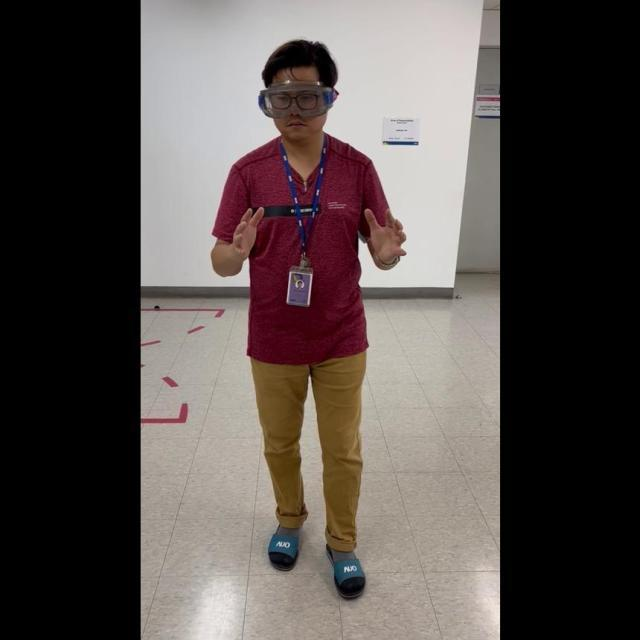bare_hand: (362, 202, 406, 267), (228, 202, 265, 263)
